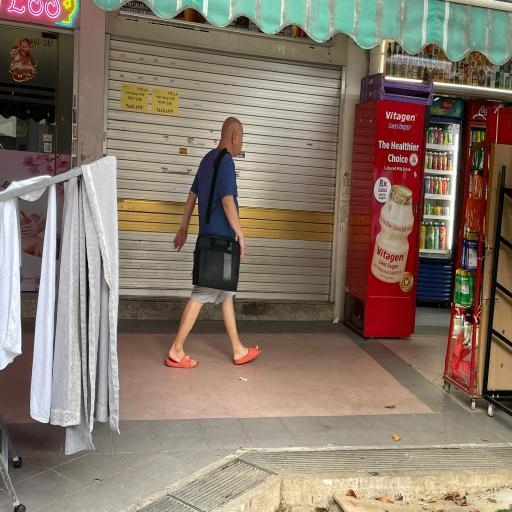person_right: (172, 116, 262, 374)
